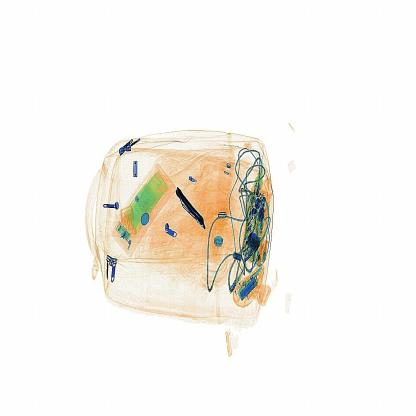knife: (178, 182, 206, 232)
